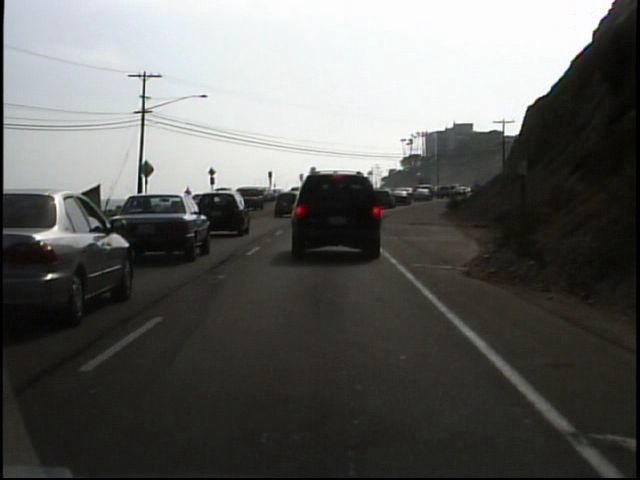person: (182, 182, 195, 210)
